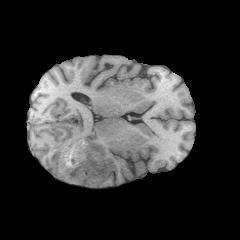glioma: (53, 136, 108, 187)
